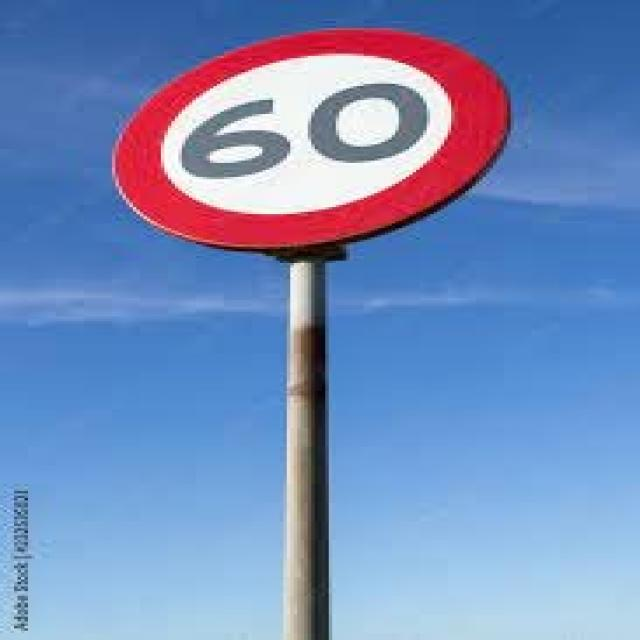speed_limit_60: (96, 11, 530, 250)
